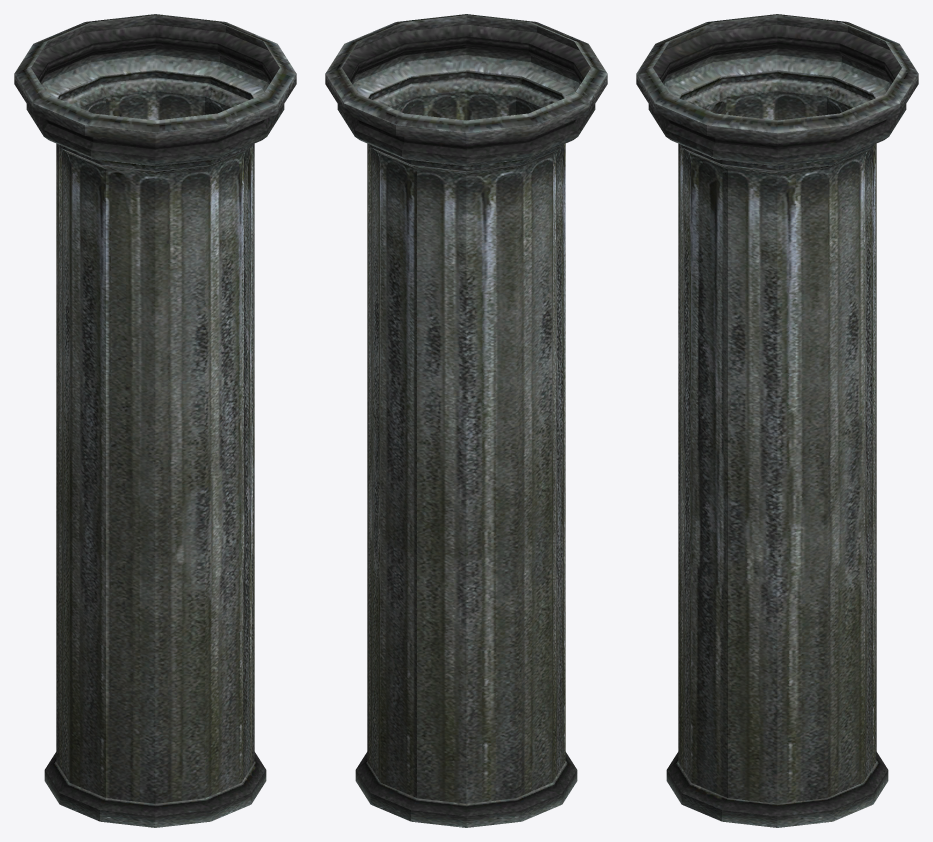
File: pillar_extension.dae
3 views of the same model, side by side, from view 1: azimuth 30°, elevation 25°; view 2: azimuth 150°, elevation 25°; view 3: azimuth 270°, elevation 25° (orthographic).
Visible parts, largest first — view 1: Mesh; view 2: Mesh; view 3: Mesh.
Part boxes in pixels (<box>): Mesh: <box>14,14,296,827</box>; Mesh: <box>325,14,607,827</box>; Mesh: <box>636,14,918,827</box>.
Size of the model in its own units: 3.13 by 8.79 by 3.13.
